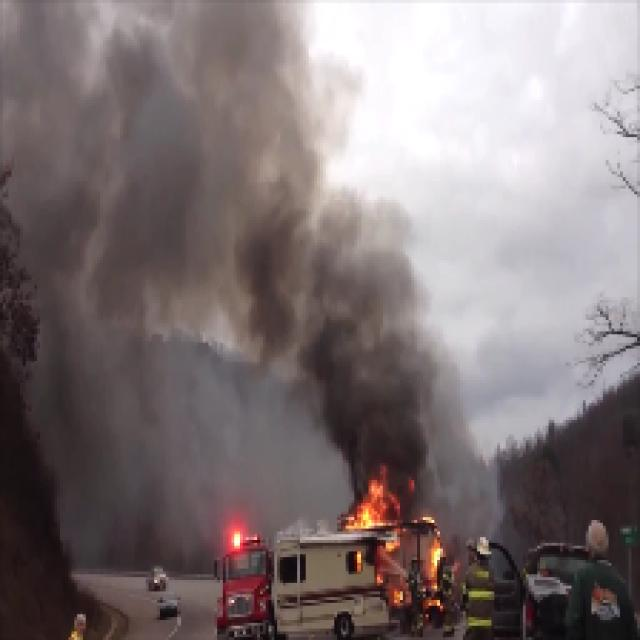fire: (349, 480, 442, 608)
smoke: (27, 4, 296, 350), (308, 299, 424, 472)
